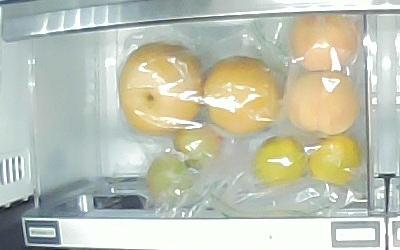peach_vinyl: (287, 71, 359, 137), (291, 13, 359, 71)
pear_vinyl: (119, 42, 205, 135), (203, 55, 281, 136)
tangerine_vinyl: (255, 136, 308, 184), (310, 136, 359, 184)
tomato_vinyl: (146, 154, 195, 200), (174, 126, 224, 169)
